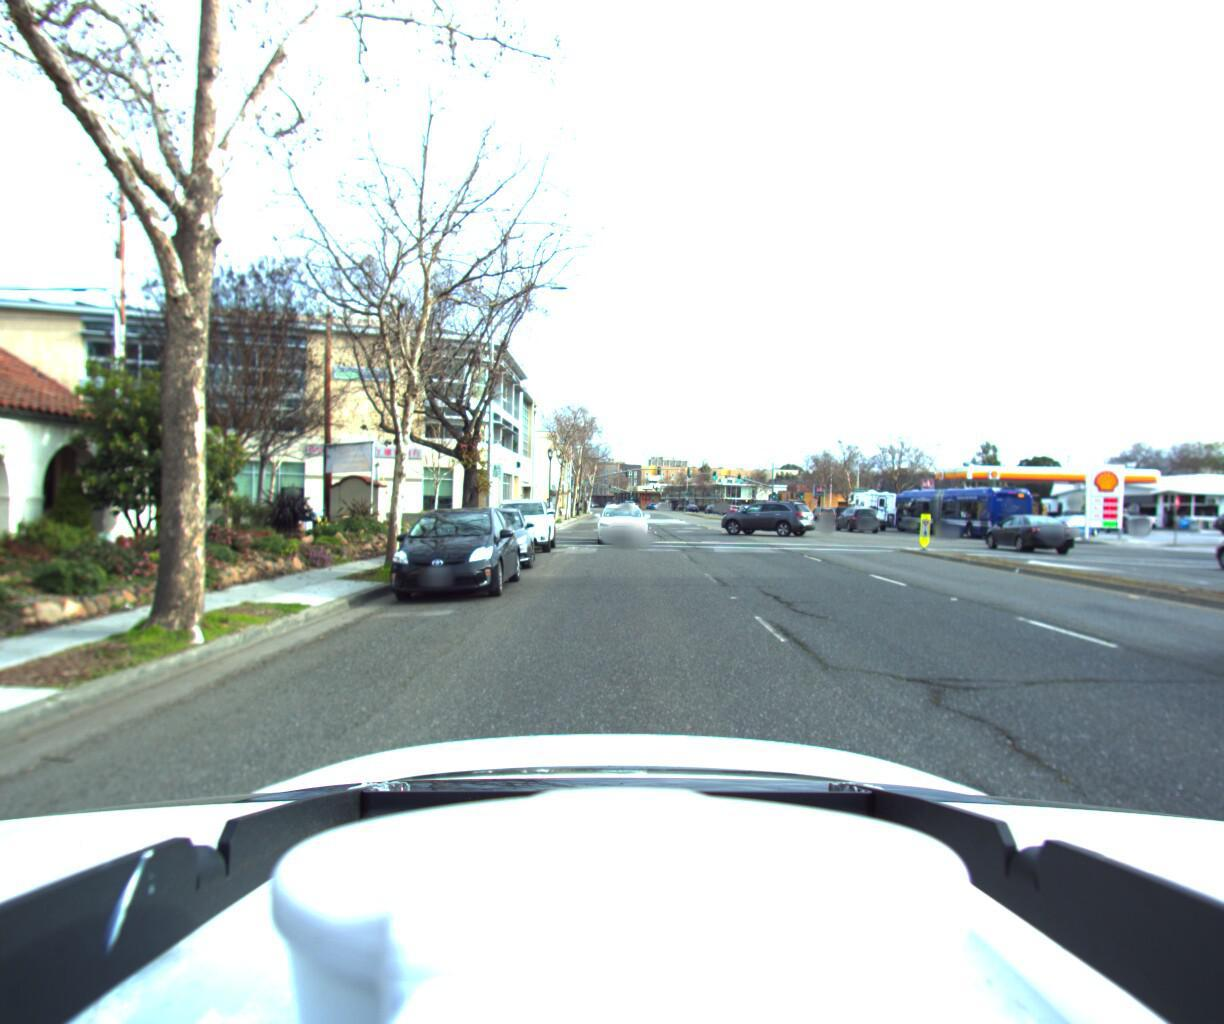bus: (888, 486, 1030, 537)
car: (375, 500, 525, 602), (446, 502, 540, 574), (484, 493, 561, 553), (972, 510, 1072, 550), (705, 497, 809, 533), (595, 501, 648, 545), (1188, 513, 1224, 573), (1098, 503, 1160, 528), (1038, 511, 1100, 534), (833, 502, 876, 529), (1099, 511, 1151, 533), (808, 505, 836, 521)
other_vehicle: (999, 488, 1062, 527), (835, 487, 893, 526)
